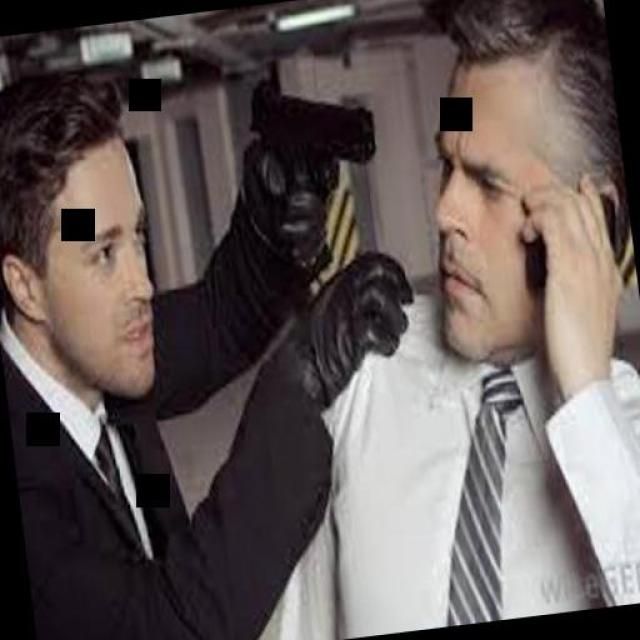gun: (238, 50, 398, 269)
